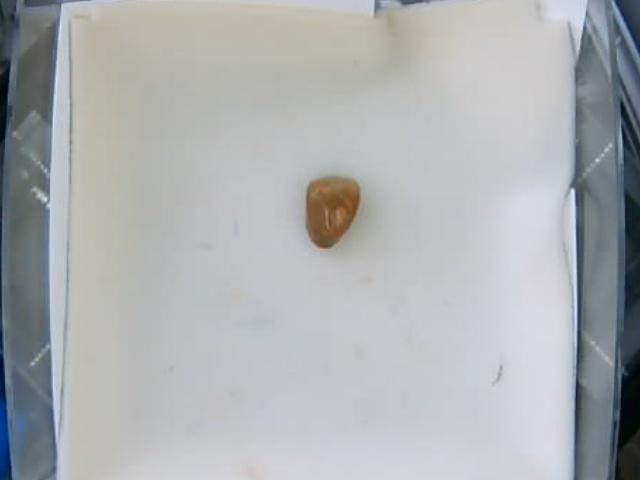Pebble: (307, 177, 359, 249)
